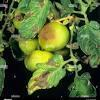tomato late blight: (39, 22, 72, 53)
